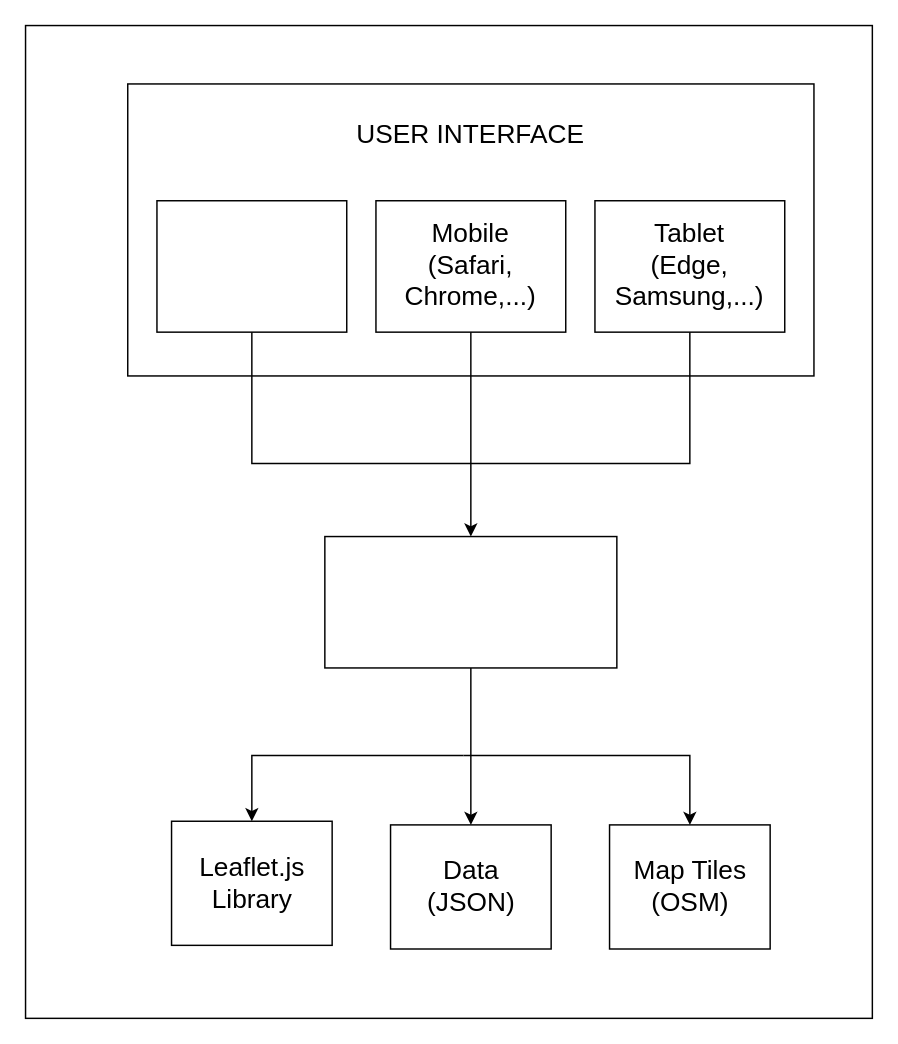
This 898x1044 diagram has some shape labels left out. The shapes that lost their labels are listed below. From the top down, each one's box as (x1, y1, x2, y2) in pixels, then its label:
(155, 199, 347, 332): Browser (Chrome, Firefox,...)
(323, 535, 617, 668): Static HTML (webmap_viewer.html)
